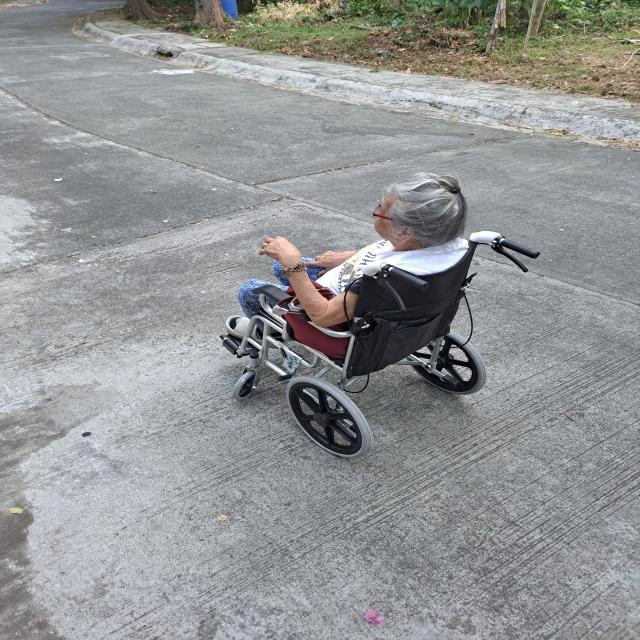wheelchairs: (222, 225, 553, 460)
